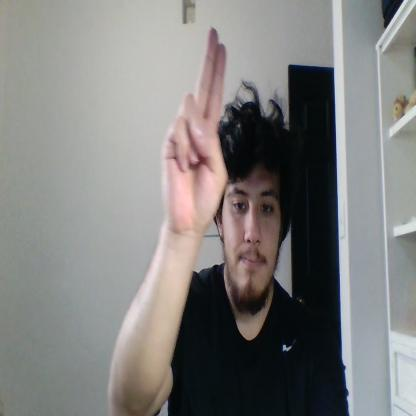U: (160, 26, 228, 232)
